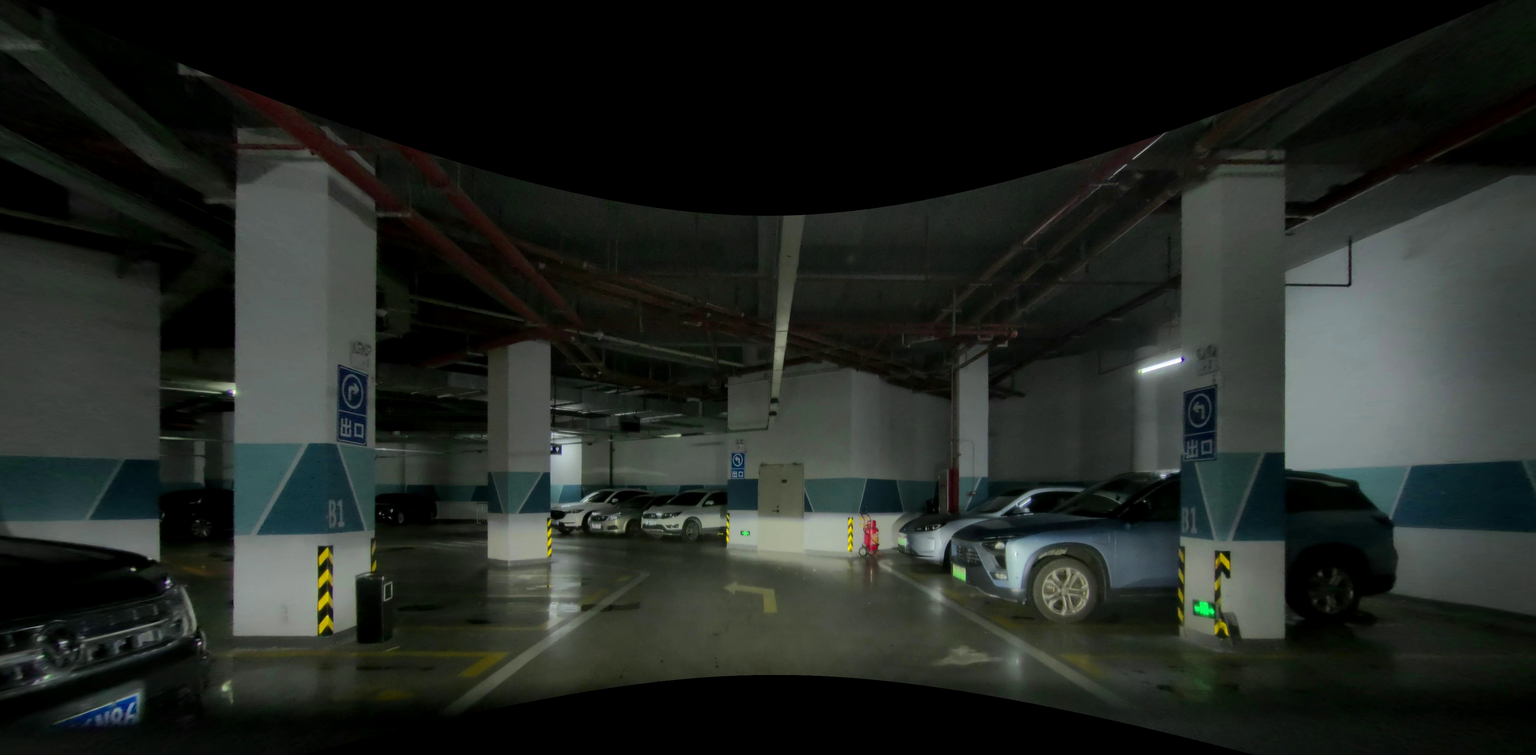B1: (322, 498, 345, 529), (1178, 505, 1196, 535)
exits: (1191, 599, 1215, 619), (740, 530, 749, 535)
出口: (1181, 436, 1213, 459), (338, 416, 365, 442), (731, 470, 744, 477)
右: (339, 373, 366, 409), (344, 382, 361, 403)
左: (720, 577, 777, 615), (1186, 391, 1212, 427), (1193, 402, 1206, 419), (732, 454, 742, 466), (735, 457, 740, 465)
